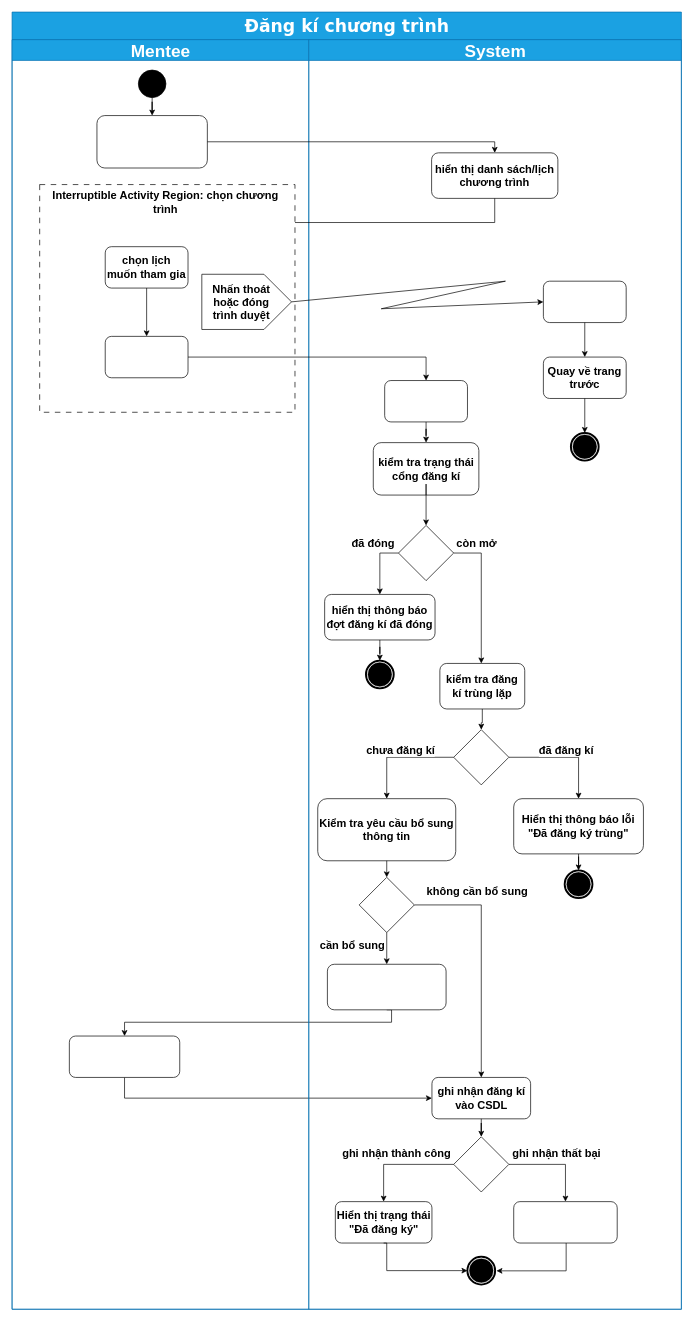
This 693x1321 diagram has some shape labels left out. Here are the shapes that lost their labels. From the top down, the box of each, then its label:
(96, 115, 207, 168): truy cập danh sách chương trình
(543, 280, 626, 323): Hủy đăng kí
(105, 336, 188, 378): nộp đăng kí
(384, 380, 467, 422): tiếp nhận yêu cầu
(327, 964, 446, 1010): Yêu cầu Mentee bổ sung thông tin
(69, 1035, 180, 1077): Bổ sung thông tin và nộp lại
(513, 1201, 617, 1243): hiển thị thông báo lỗi hệ thống
